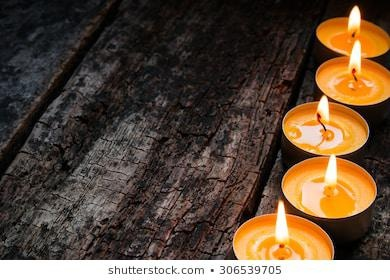fire: (344, 36, 363, 75), (274, 197, 289, 241), (345, 1, 361, 36), (323, 152, 339, 187), (315, 92, 332, 122)
